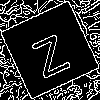Z: (25, 25, 72, 79)
